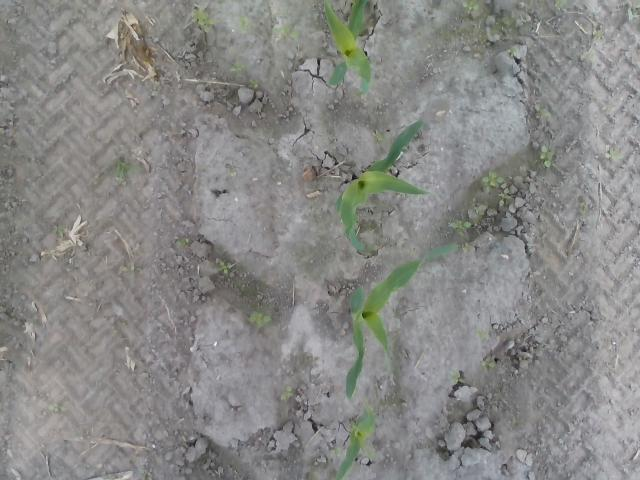Maize: (346, 243, 459, 400), (336, 118, 434, 253), (321, 1, 373, 96), (333, 411, 378, 480)
Weeds: (98, 154, 142, 184), (482, 172, 506, 190), (192, 12, 214, 31), (246, 312, 272, 328), (449, 220, 471, 237), (273, 25, 299, 39), (236, 15, 254, 35), (534, 103, 553, 120), (540, 147, 554, 167), (482, 357, 496, 376), (278, 386, 294, 402), (476, 326, 490, 343), (218, 261, 235, 275), (604, 148, 622, 161), (450, 371, 465, 386), (366, 447, 380, 463), (124, 262, 142, 274), (462, 1, 479, 13), (628, 2, 640, 19), (498, 190, 512, 204), (230, 61, 244, 74), (248, 80, 262, 90), (174, 239, 188, 248), (579, 200, 588, 214), (56, 226, 70, 235), (554, 1, 566, 11), (49, 405, 62, 414), (331, 446, 342, 456), (584, 52, 596, 61), (508, 47, 518, 56), (374, 130, 384, 139), (597, 31, 606, 40)
